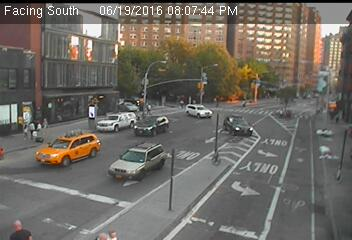neg: (22, 51, 51, 90), (182, 92, 209, 129), (161, 171, 187, 205), (302, 88, 327, 121), (302, 151, 324, 181), (133, 154, 154, 183), (37, 176, 57, 204), (226, 31, 246, 57), (166, 45, 185, 71), (52, 141, 71, 166), (222, 159, 241, 184), (99, 65, 116, 87), (273, 72, 289, 93), (77, 100, 92, 120), (95, 134, 110, 154), (252, 117, 265, 136)
